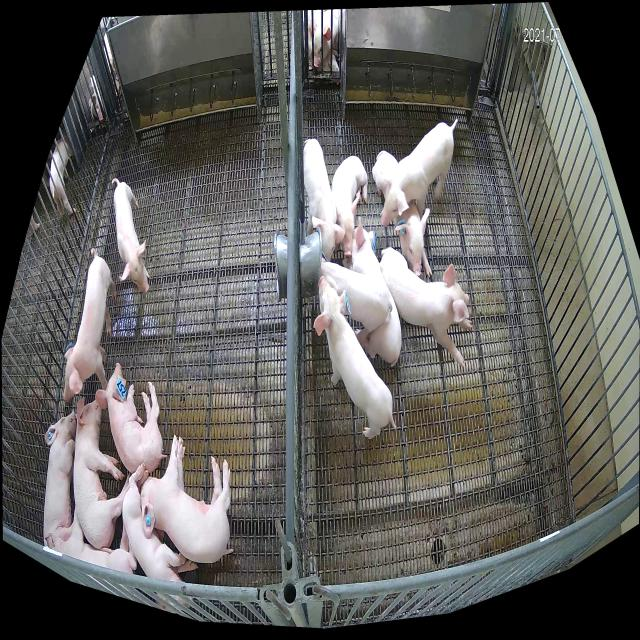pig: (313, 275, 396, 441), (140, 434, 233, 562), (379, 246, 473, 367), (122, 464, 198, 611), (73, 397, 129, 552), (380, 119, 458, 228), (342, 223, 401, 367), (63, 247, 116, 402), (94, 361, 164, 475), (372, 150, 432, 278), (45, 507, 137, 575), (304, 139, 346, 261), (320, 262, 392, 332), (112, 179, 150, 294), (44, 410, 76, 540), (331, 156, 368, 255)
